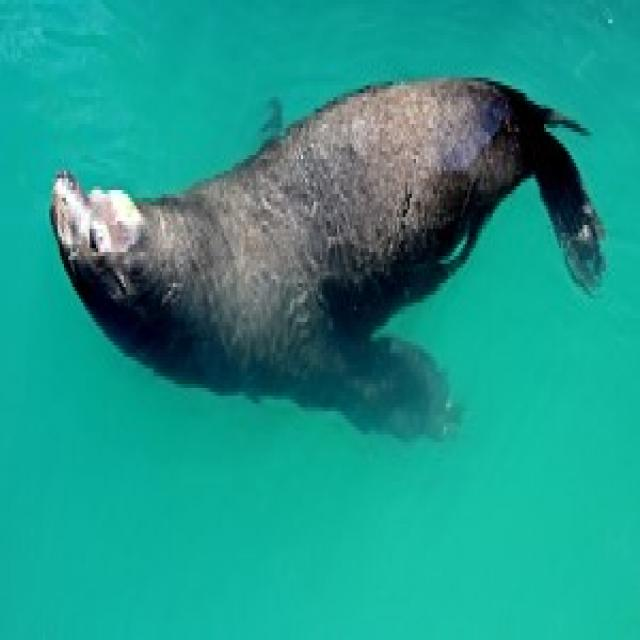Seal: (42, 54, 612, 461)
